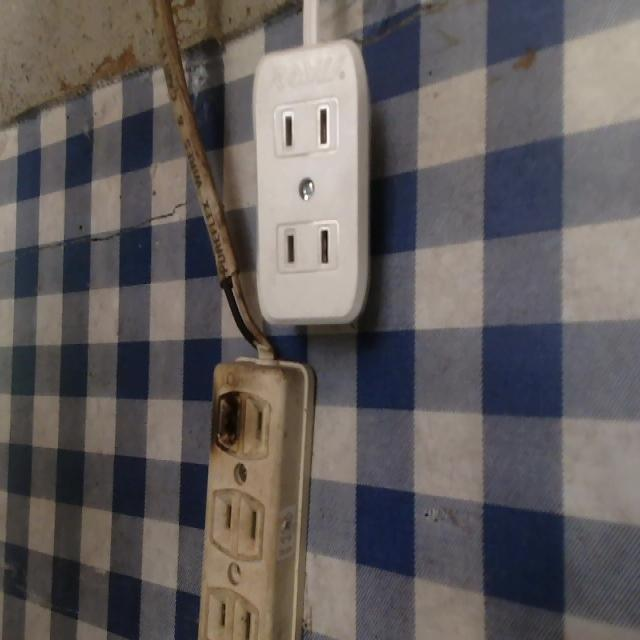-: (210, 373, 247, 459)
